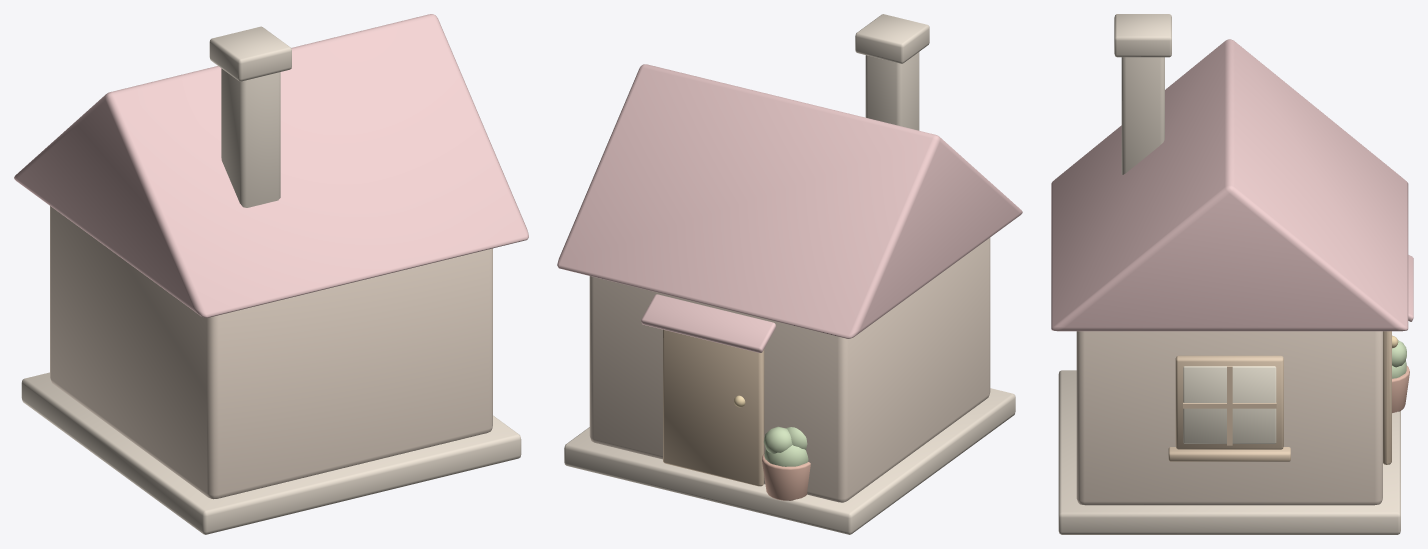
The model's file is Structures_Cabin_A_XS_v01.glb.
3 views of the same model, side by side, from view 1: azimuth 30°, elevation 25°; view 2: azimuth 150°, elevation 25°; view 3: azimuth 270°, elevation 25° (orthographic). The views are drawn at different scales.
Parts seen in each view (by area): view 1: Cabin_Roof, Cabin_Body, Cabin_Foundation, Cabin_Chimney, Cabin_Chimney_Cap; view 2: Cabin_Roof, Cabin_Body, Cabin_Foundation, Cabin_Door_Frame, Cabin_Door_Awning, Cabin_Chimney, Cabin_Plant_0, Cabin_Chimney_Cap; view 3: Cabin_Roof, Cabin_Body, Cabin_Foundation, Cabin_Window_Big_Glass, Cabin_Chimney, Cabin_Window_Big_Frame, Cabin_Chimney_Cap, Cabin_Window_Big_Sill, Cabin_Door_Frame, Cabin_Plant_0, Cabin_Window_Big_MullionH, Cabin_Window_Big_MullionV.
Boxes of the visible parts, x1,y1,x2,y2 form: Cabin_Roof: [14, 14, 528, 317]; Cabin_Body: [50, 206, 492, 499]; Cabin_Foundation: [21, 372, 521, 534]; Cabin_Chimney: [221, 68, 280, 207]; Cabin_Chimney_Cap: [209, 26, 291, 81]; Cabin_Roof: [557, 64, 1022, 338]; Cabin_Body: [589, 237, 990, 502]; Cabin_Foundation: [564, 388, 1015, 534]; Cabin_Door_Frame: [663, 329, 764, 486]; Cabin_Door_Awning: [641, 294, 775, 352]; Cabin_Chimney: [865, 52, 919, 130]; Cabin_Plant_0: [762, 426, 810, 500]; Cabin_Chimney_Cap: [855, 14, 929, 63]; Cabin_Roof: [1051, 39, 1408, 331]; Cabin_Body: [1076, 331, 1382, 505]; Cabin_Foundation: [1058, 370, 1400, 534]; Cabin_Window_Big_Glass: [1183, 366, 1276, 443]; Cabin_Chimney: [1121, 57, 1164, 174]; Cabin_Window_Big_Frame: [1175, 355, 1283, 449]; Cabin_Chimney_Cap: [1114, 14, 1171, 57]; Cabin_Window_Big_Sill: [1168, 447, 1290, 461]; Cabin_Door_Frame: [1383, 331, 1391, 464]; Cabin_Plant_0: [1392, 340, 1409, 412]; Cabin_Window_Big_MullionH: [1183, 402, 1276, 408]; Cabin_Window_Big_MullionV: [1227, 366, 1232, 445].
Size of the model in its own units: 1.98 by 2.5 by 2.01.
